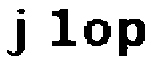1: (47, 7, 78, 50)
j: (5, 6, 29, 60)
o: (82, 18, 114, 51)
p: (115, 17, 148, 60)
